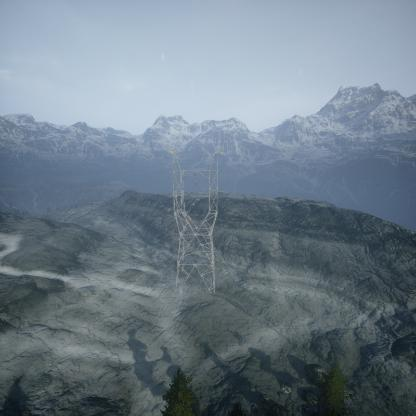tower: (164, 144, 226, 301)
